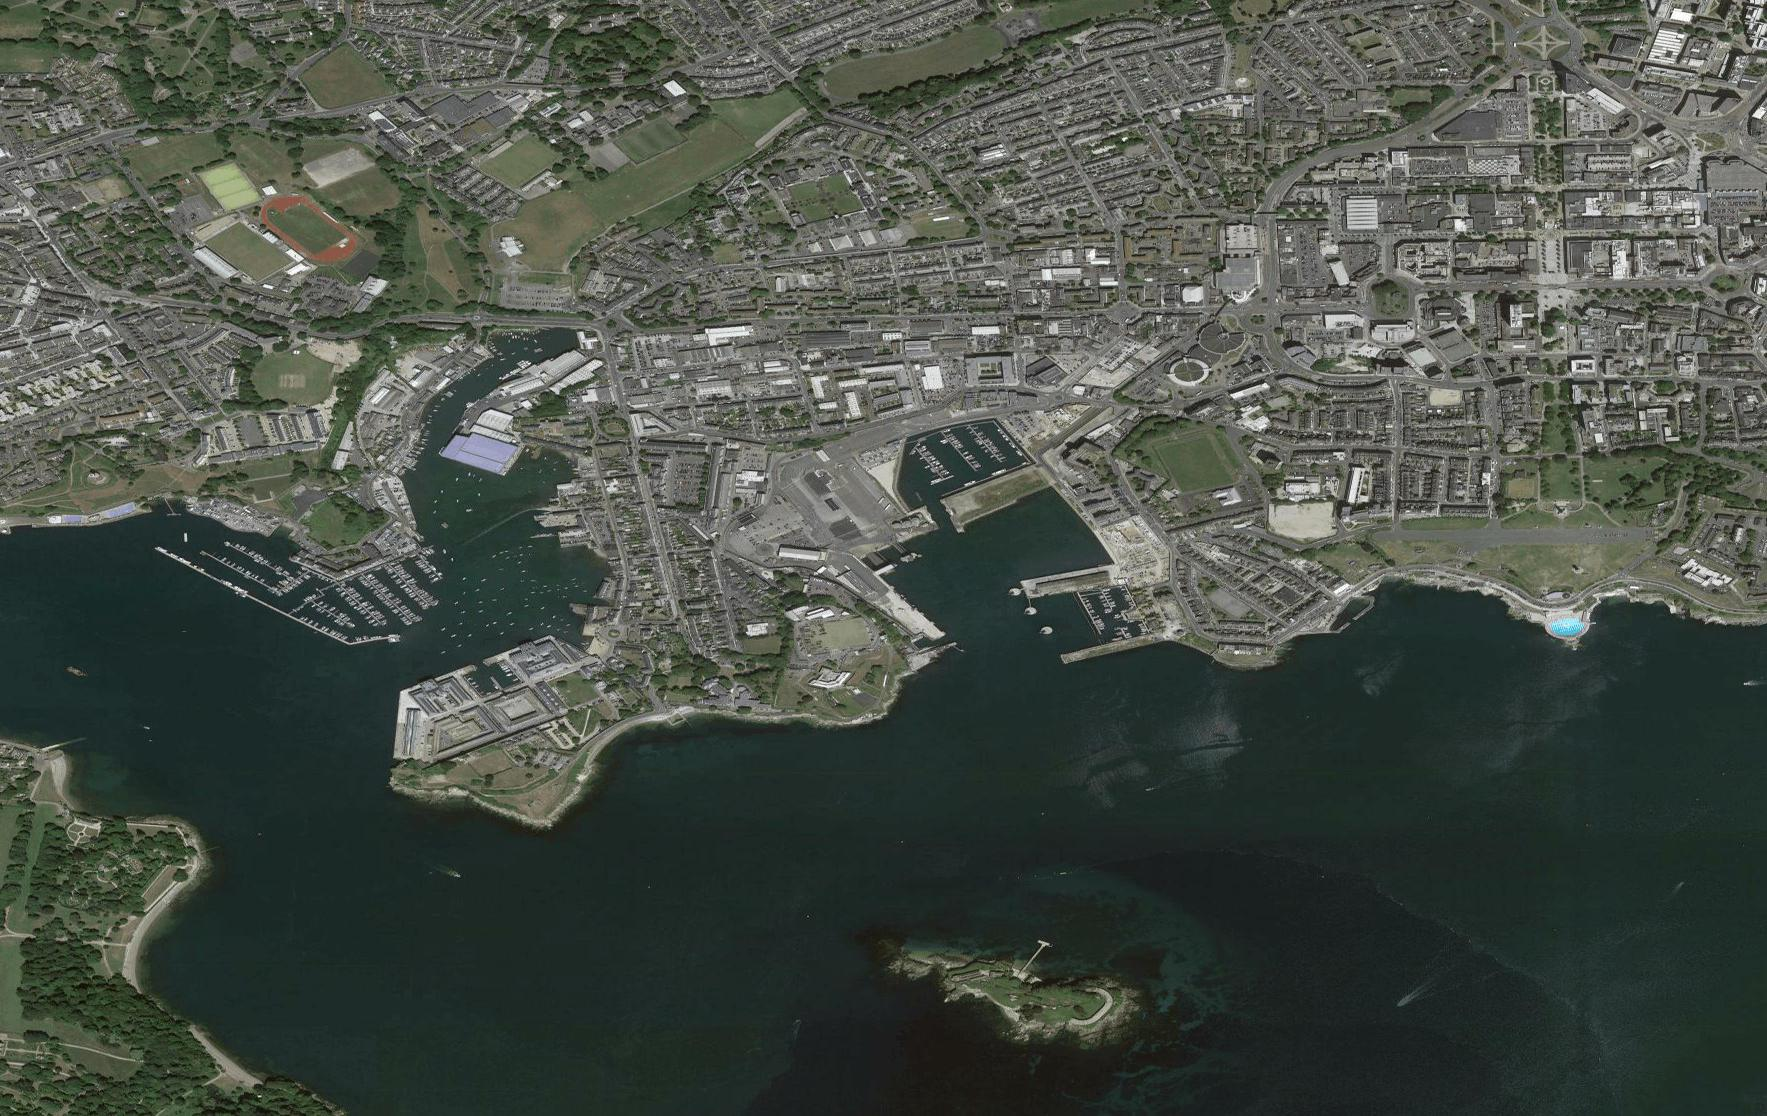harbor: (122, 321, 1166, 851)
